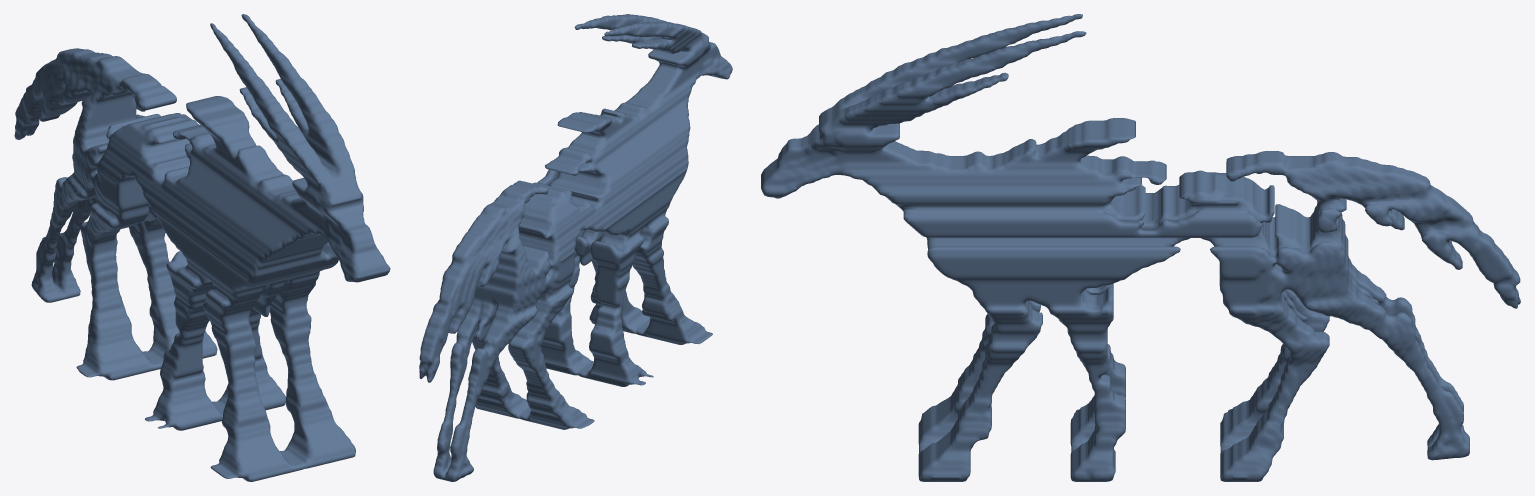
The model's file is S-ORIGINAL-SOURCE-3VIEW-VOLUME-V1-UNAPPROVED.glb.
The picture shows the model from 3 angles, left to right: view 1: azimuth 30°, elevation 25°; view 2: azimuth 150°, elevation 25°; view 3: azimuth 270°, elevation 25°; orthographic projection. The views are drawn at different scales.
Visible parts, largest first — view 1: SOURCE_ALIGNED_S_TRUE_VOLUME_V1_UNAPPROVED; view 2: SOURCE_ALIGNED_S_TRUE_VOLUME_V1_UNAPPROVED; view 3: SOURCE_ALIGNED_S_TRUE_VOLUME_V1_UNAPPROVED.
Boxes of the visible parts, x1=… form: SOURCE_ALIGNED_S_TRUE_VOLUME_V1_UNAPPROVED: x1=14, y1=14, x2=390, y2=481; SOURCE_ALIGNED_S_TRUE_VOLUME_V1_UNAPPROVED: x1=419, y1=14, x2=732, y2=481; SOURCE_ALIGNED_S_TRUE_VOLUME_V1_UNAPPROVED: x1=761, y1=14, x2=1520, y2=481.
Bounding box in the file's own units: 1.3 × 3.82 × 6.09.
